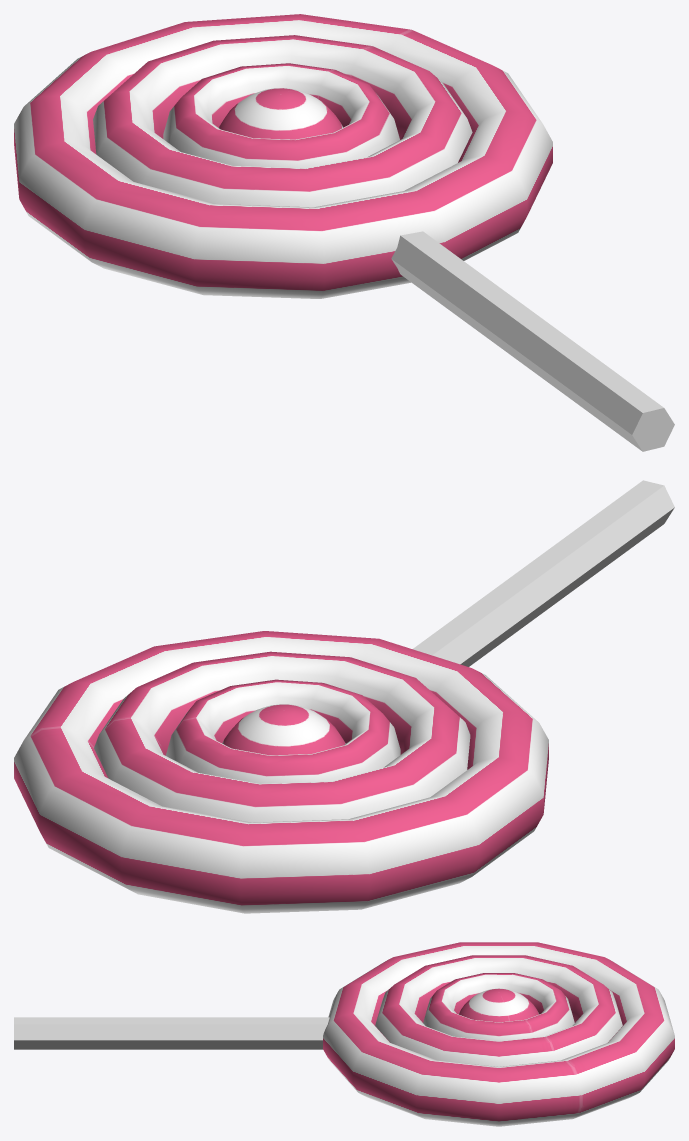
Rendered from lollipop_p.fbx.
3 views of the same model, one above another, from view 1: azimuth 30°, elevation 25°; view 2: azimuth 150°, elevation 25°; view 3: azimuth 270°, elevation 25° (orthographic). The views are drawn at different scales.
Parts seen in each view (by area): view 1: pTorus1, pTorus2, pCylinder1, pTorus3, pSphere1; view 2: pTorus1, pTorus2, pTorus3, pCylinder1, pSphere1; view 3: pTorus1, pTorus2, pCylinder1, pTorus3, pSphere1.
Part boxes in pixels (bbox=[...]): pTorus1: bbox=[14, 14, 552, 298]; pTorus2: bbox=[93, 35, 472, 207]; pCylinder1: bbox=[391, 231, 674, 451]; pTorus3: bbox=[163, 63, 399, 168]; pSphere1: bbox=[219, 88, 342, 139]; pTorus1: bbox=[14, 631, 548, 913]; pTorus2: bbox=[94, 651, 470, 822]; pTorus3: bbox=[165, 679, 400, 783]; pCylinder1: bbox=[412, 480, 674, 666]; pSphere1: bbox=[222, 704, 345, 755]; pTorus1: bbox=[323, 942, 674, 1126]; pTorus2: bbox=[375, 955, 622, 1066]; pCylinder1: bbox=[14, 1017, 329, 1049]; pTorus3: bbox=[423, 973, 574, 1041]; pSphere1: bbox=[459, 988, 538, 1022].
Bounding box in the file's own units: 7.77 × 2 × 14.7.
2 materials, 1 textured.
